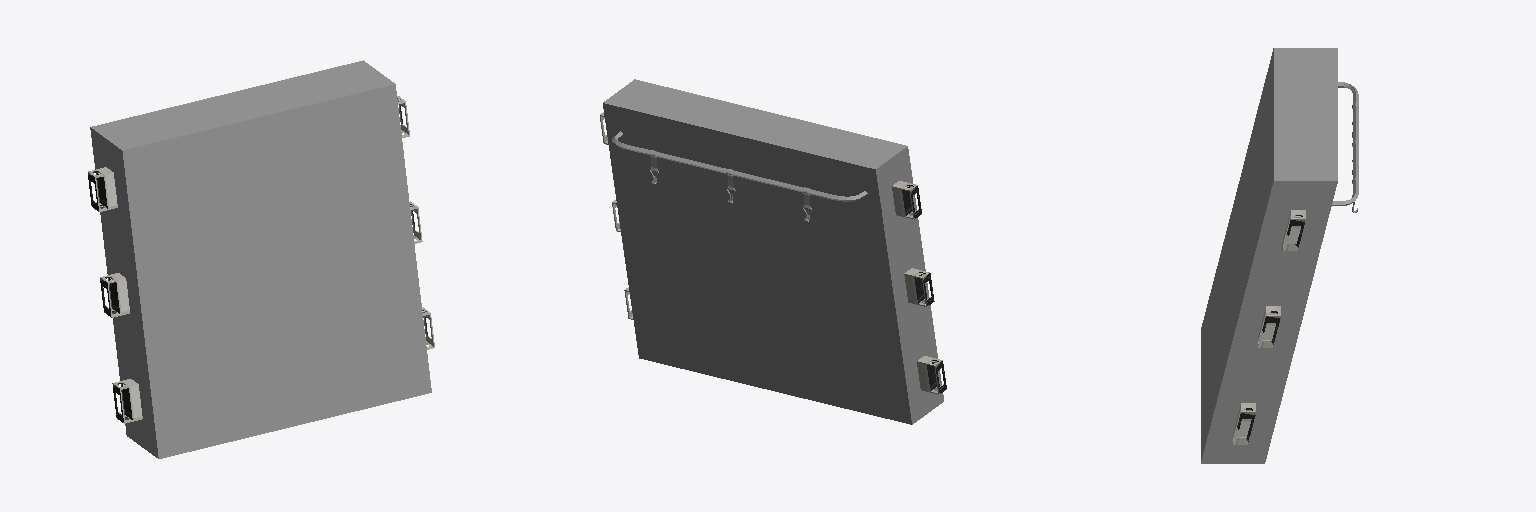
The picture shows the model from 3 angles: view 1: azimuth 30°, elevation 25°; view 2: azimuth 150°, elevation 25°; view 3: azimuth 270°, elevation 25°; orthographic projection.
Visible parts, largest first — view 1: Cube_Cube.002; view 2: Cube_Cube.002; view 3: Cube_Cube.002.
Part boxes in pixels (bbox=[...]): Cube_Cube.002: bbox=[88, 60, 434, 458]; Cube_Cube.002: bbox=[600, 79, 946, 424]; Cube_Cube.002: bbox=[1201, 48, 1358, 463].
Size of the model in its own units: 3.25 by 2.82 by 1.44.
Materials: 3 (1 with a texture image).